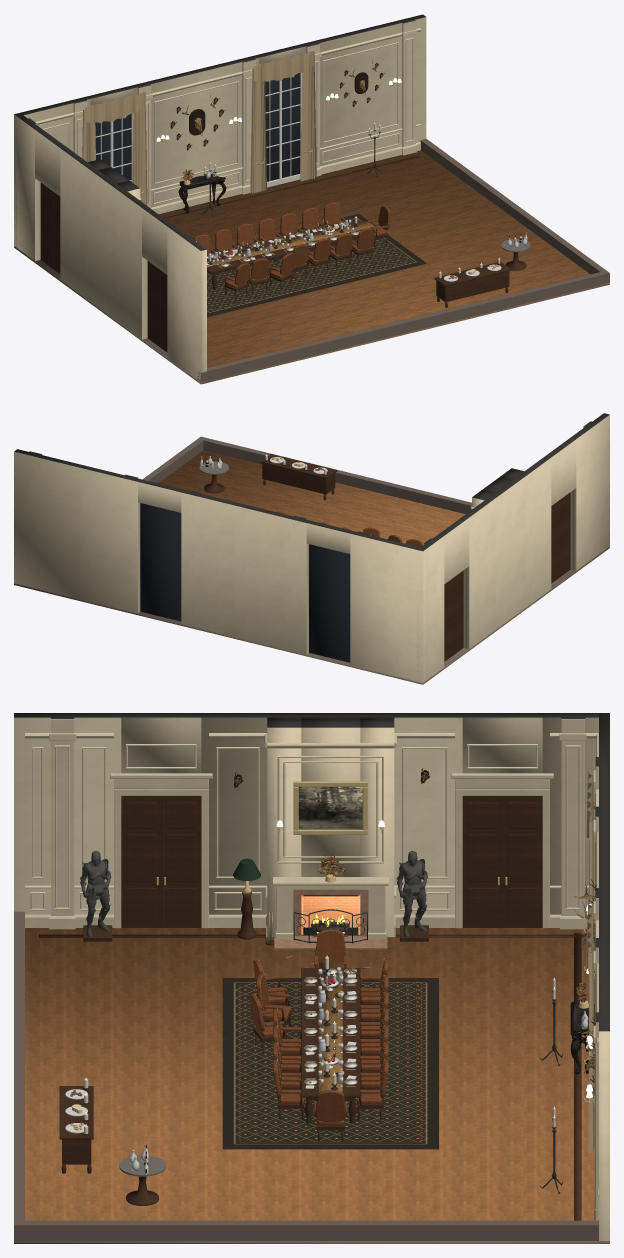
Rendered from room.glb.
3 views of the same model, one above another, from view 1: azimuth 30°, elevation 25°; view 2: azimuth 150°, elevation 25°; view 3: azimuth 270°, elevation 25° (orthographic). The views are drawn at different scales.
Visible parts, largest first — view 1: floor, left_wall_1_ext, back_wall_2, back_wall_1, furn_walnut, furn_silk_drape, arch_boiserie, rug, kerb_front_ext, left_wall_0_ext, furn_night_glass, left_wall_2_ext (+21 smaller); view 2: back_wall_1_ext, back_wall_2_ext, left_wall_1_ext, back_wall_0_ext, floor, furn_night_glass, furn_walnut, left_wall_0_ext, left_wall_2_ext, kerb_front, subfloor_ext, left_wall_head0_ext (+7 smaller); view 3: floor, furn_walnut, arch_boiserie, rug, left_wall_1, left_wall_0, kerb_right_ext, solid_breast_top, solid_breast0, solid_breast1, furn_cognac_leather, left_wall_head0 (+29 smaller).
Part boxes in pixels (x1,y1,x2,y2): floor: (44, 150, 590, 367); left_wall_1_ext: (60, 147, 147, 338); back_wall_2: (302, 17, 426, 166); back_wall_1: (133, 58, 258, 207); furn_walnut: (40, 183, 526, 352); furn_silk_drape: (82, 51, 316, 205); arch_boiserie: (35, 28, 421, 214); rug: (207, 213, 426, 317); kerb_front_ext: (197, 270, 609, 382); left_wall_0_ext: (167, 225, 206, 382); furn_night_glass: (95, 73, 299, 181); left_wall_2_ext: (14, 115, 40, 260); back_wall_1_ext: (181, 490, 309, 654); back_wall_2_ext: (14, 449, 140, 613); left_wall_1_ext: (463, 456, 551, 648); back_wall_0_ext: (350, 531, 426, 682); floor: (158, 450, 569, 661); furn_night_glass: (140, 503, 350, 662); furn_walnut: (204, 454, 570, 661); left_wall_0_ext: (570, 413, 609, 570); left_wall_2_ext: (417, 534, 444, 682); kerb_front: (203, 440, 471, 514); subfloor_ext: (14, 546, 609, 684); left_wall_head0_ext: (545, 438, 576, 505); floor: (25, 928, 594, 1220); furn_walnut: (59, 796, 542, 1205); arch_boiserie: (25, 733, 598, 1220); rug: (222, 978, 438, 1149); left_wall_1: (201, 717, 462, 914); left_wall_0: (14, 717, 121, 914); kerb_right_ext: (25, 1220, 598, 1240); solid_breast_top: (301, 717, 360, 876); solid_breast0: (267, 717, 301, 937); solid_breast1: (360, 717, 394, 937); furn_cognac_leather: (256, 955, 381, 1125); left_wall_head0: (121, 717, 201, 773).
Size of the model in its own units: 9.6 by 2.99 by 7.6.
67 materials, 27 textured.
